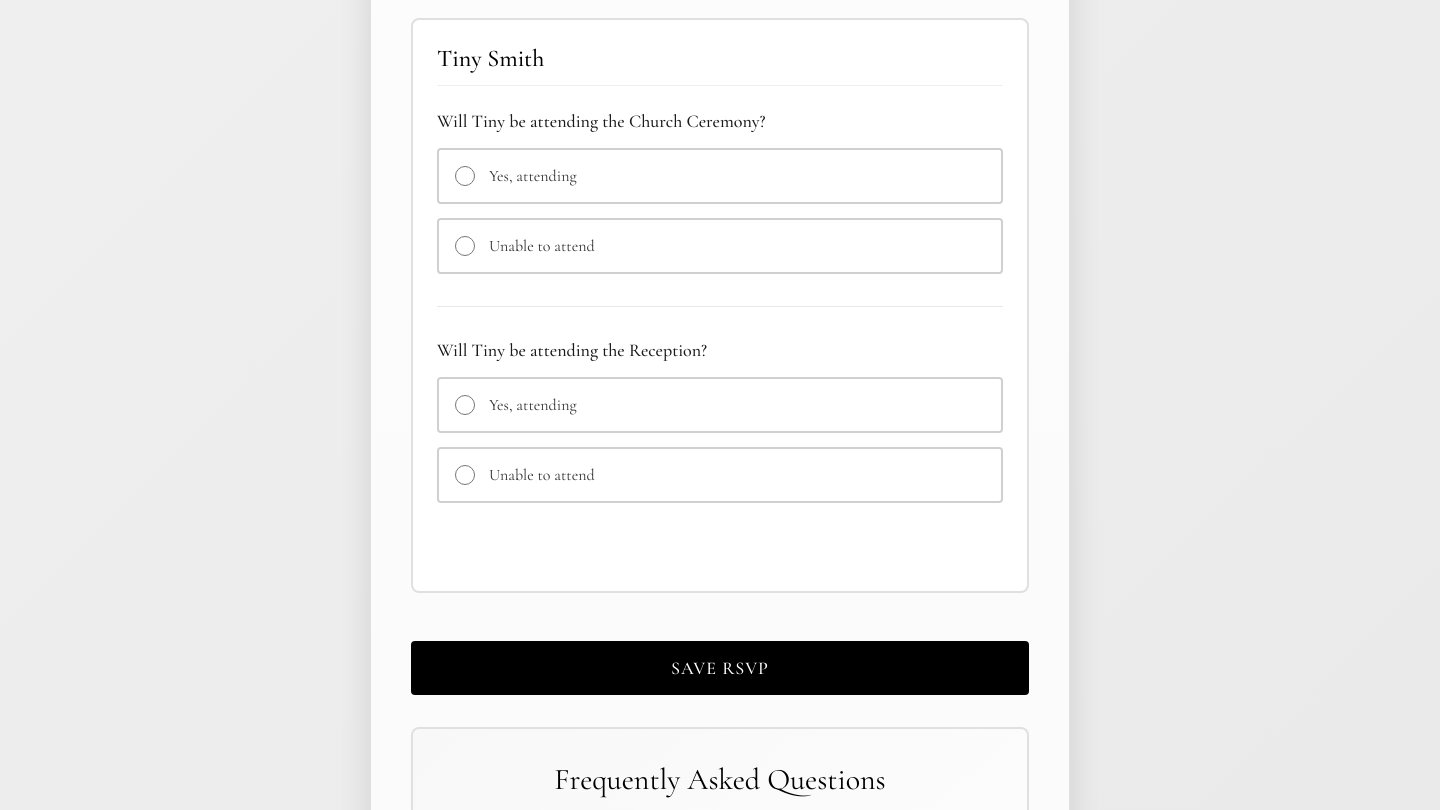
RSVPForm › children see the child meal option instead of the adult meals
(page scrolled)
Click the radio button showing "Yes" below "be attending the Reception?".
click(465, 405)  # box [455,395,475,415]
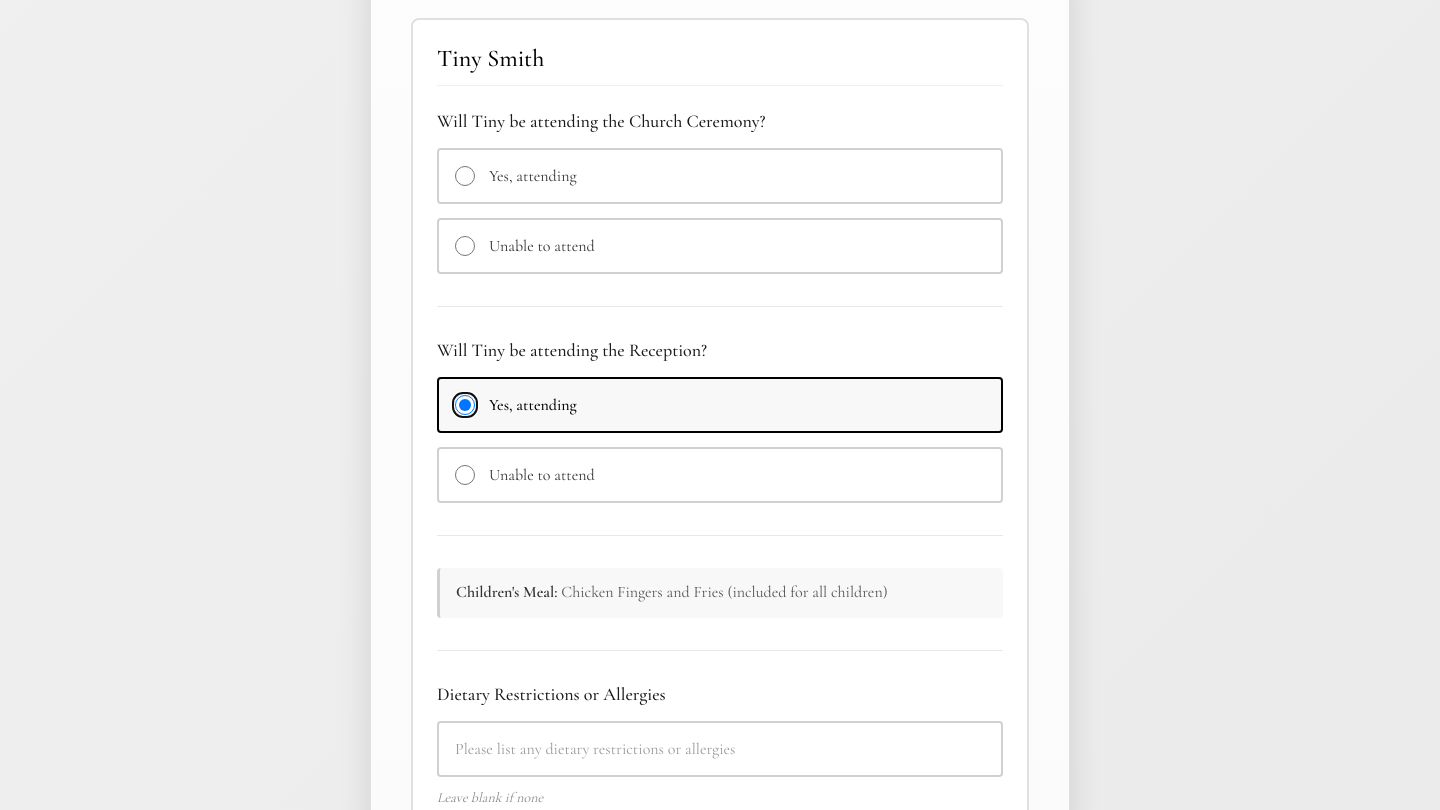
Now the text "Children's Meal:" is shown, box [456,582,558,602]
